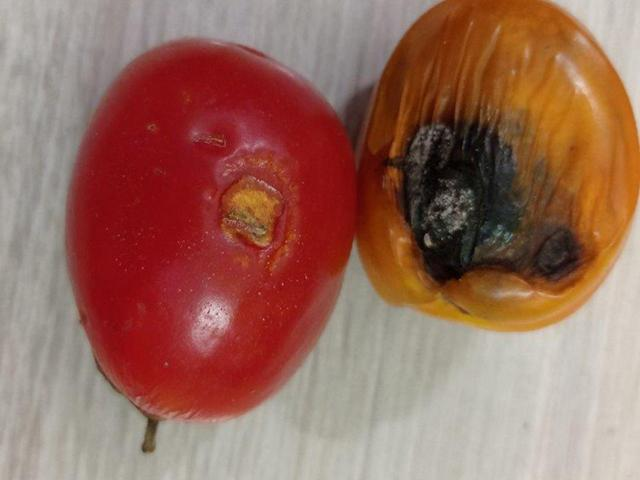defect: (61, 32, 360, 426), (351, 3, 640, 336)
